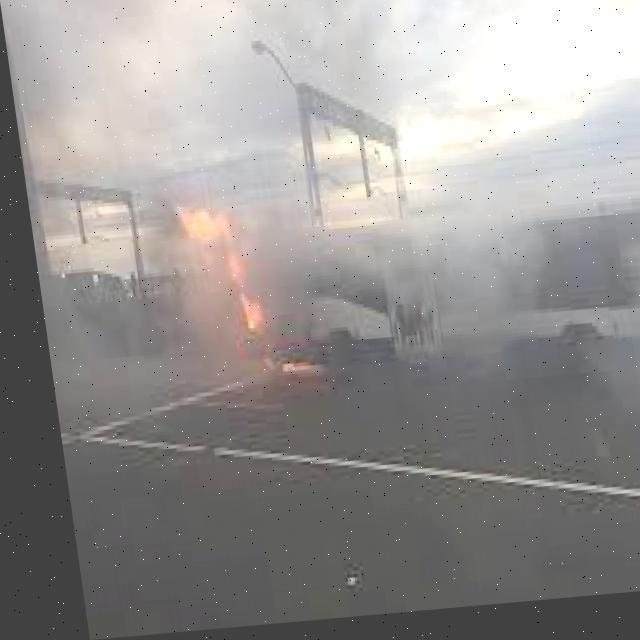Fire: (152, 198, 312, 390)
